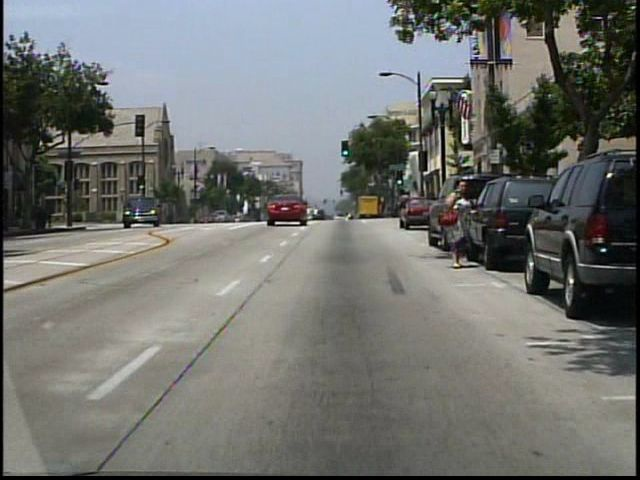person: (439, 178, 484, 272)
